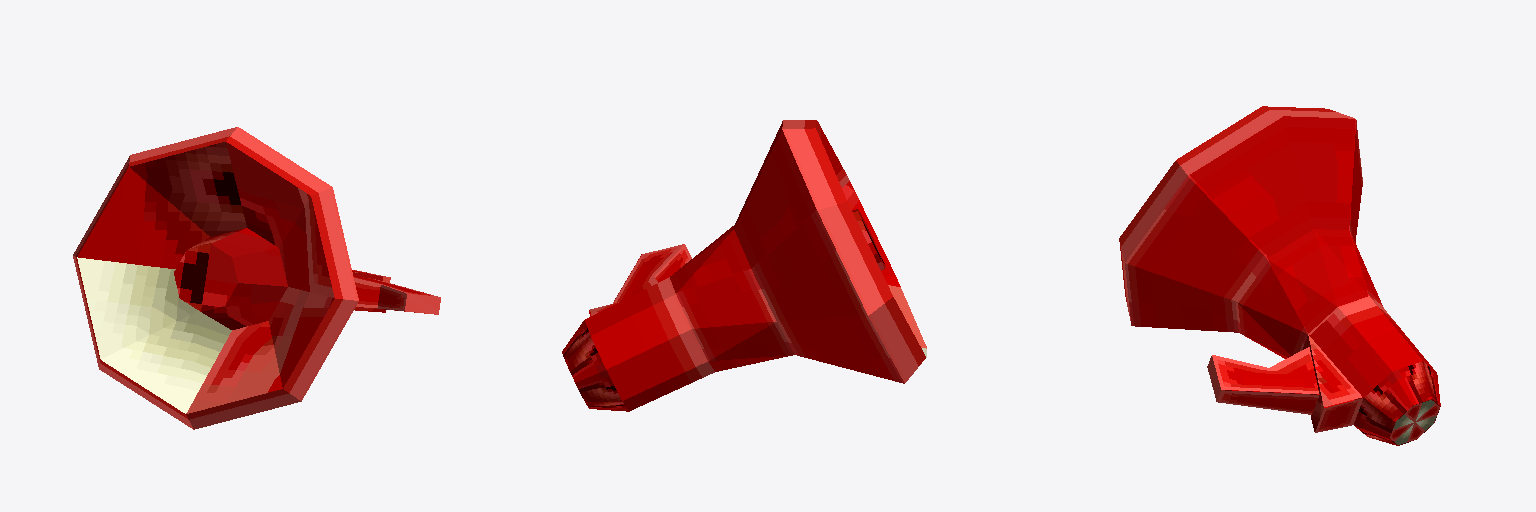
3 views of the same model, side by side, from view 1: azimuth 30°, elevation 25°; view 2: azimuth 150°, elevation 25°; view 3: azimuth 270°, elevation 25° (orthographic).
Parts seen in each view (by area): view 1: vsn_mesh_0__mesh_0_.002; view 2: vsn_mesh_0__mesh_0_.002; view 3: vsn_mesh_0__mesh_0_.002.
Boxes of the visible parts, x1,y1,x2,y2 form: vsn_mesh_0__mesh_0_.002: [73, 127, 440, 429]; vsn_mesh_0__mesh_0_.002: [562, 120, 926, 411]; vsn_mesh_0__mesh_0_.002: [1119, 106, 1440, 445].
Size of the model in its own units: 19.78 by 15.89 by 17.56.
1 materials, 1 textured.